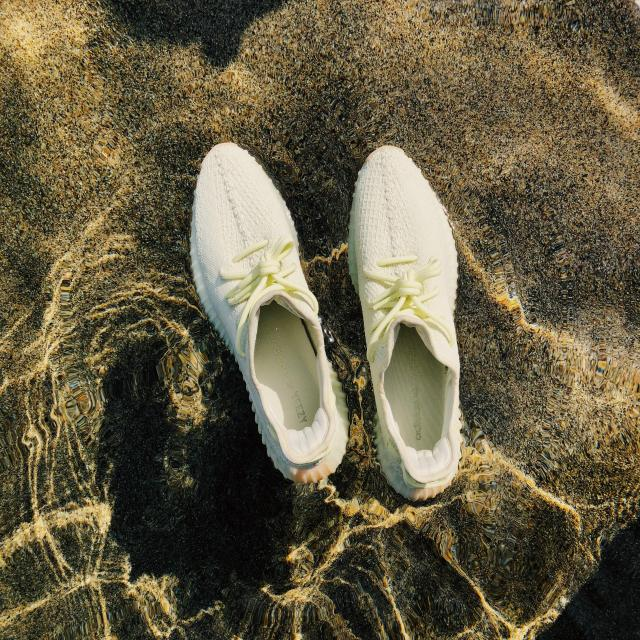shoe: (332, 123, 491, 544), (179, 131, 356, 504)
